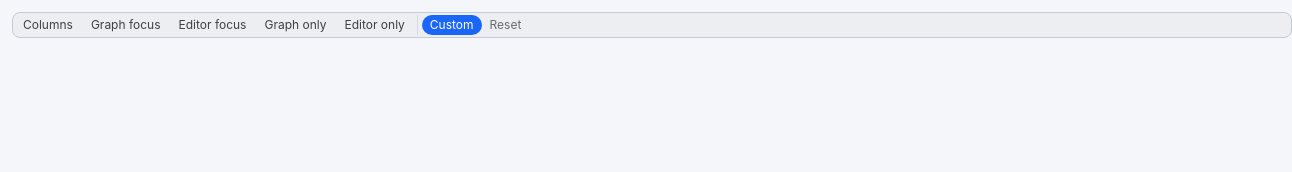
Test: PresetSwitcher › the Custom pill › Reset discards the custom layout and returns to its starting preset, hiding the pill again
Check: the button "Custom" is shown, box [422,15,482,35]
Click the button with aria-label "reset custom layout" at [506, 25], box [484,15,527,35]
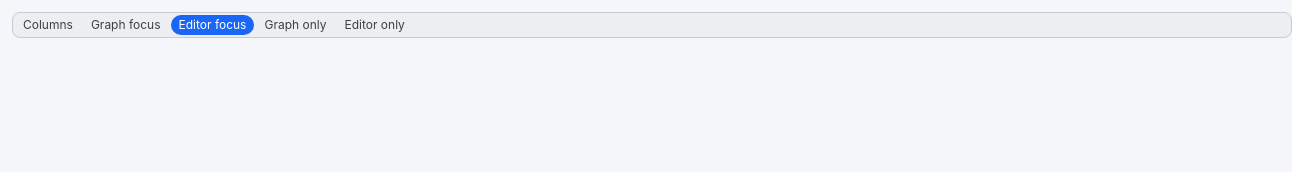
Check: the button "Custom" is gone
